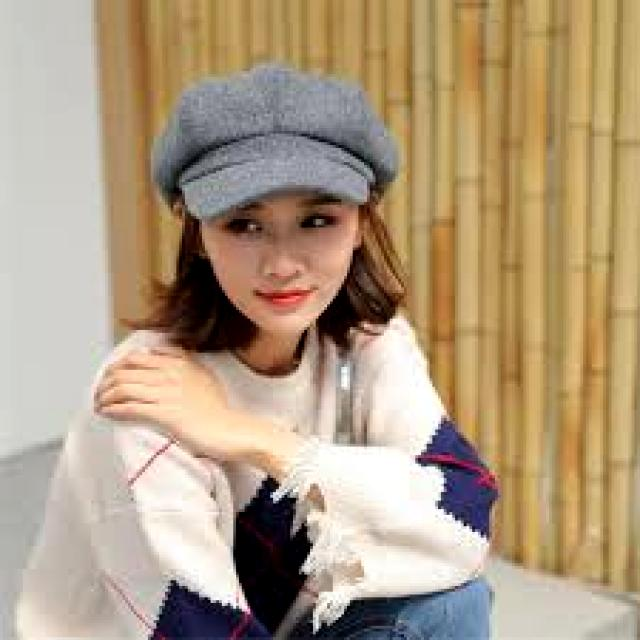hat: (151, 63, 398, 219)
